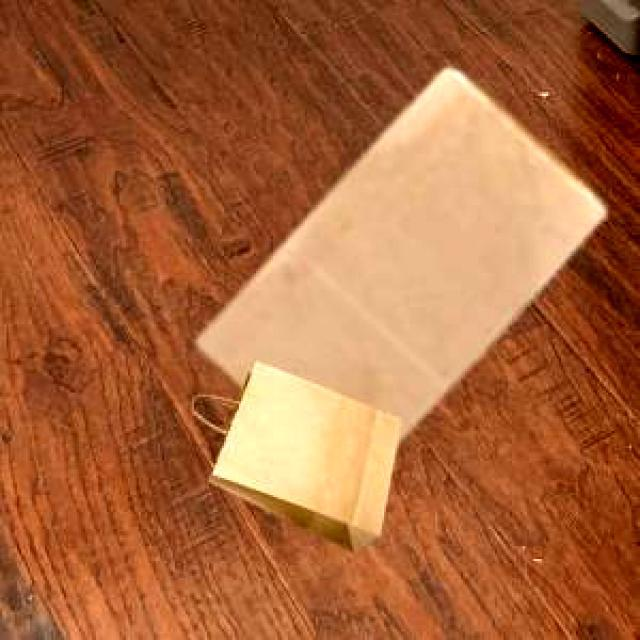Paper_Bag: (195, 68, 601, 438), (206, 360, 398, 550)
